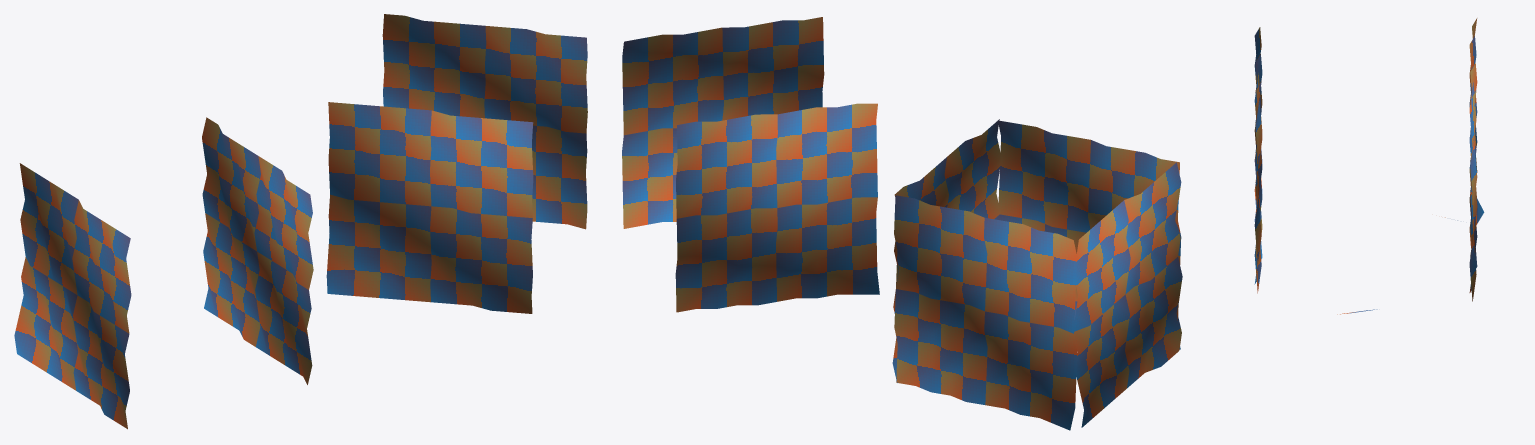
The model's file is textured_source.glb.
3 renders of one model, left to right at view 1: azimuth 30°, elevation 25°; view 2: azimuth 150°, elevation 25°; view 3: azimuth 270°, elevation 25°, orthographic. The views are drawn at different scales.
Parts seen in each view (by area): view 1: Crate_0002, Crate_0001; view 2: Crate_0001, Crate_0002; view 3: Crate_0001.
Boxes of the visible parts, left/top/right/bottom form: Crate_0002: left=326, top=14, right=587, bottom=313; Crate_0001: left=14, top=117, right=313, bottom=429; Crate_0001: left=892, top=119, right=1182, bottom=430; Crate_0002: left=622, top=17, right=879, bottom=312; Crate_0001: left=1254, top=18, right=1484, bottom=301.
Size of the model in its own units: 2.87 by 1.25 by 1.44.
Materials: 1 (1 with a texture image).
